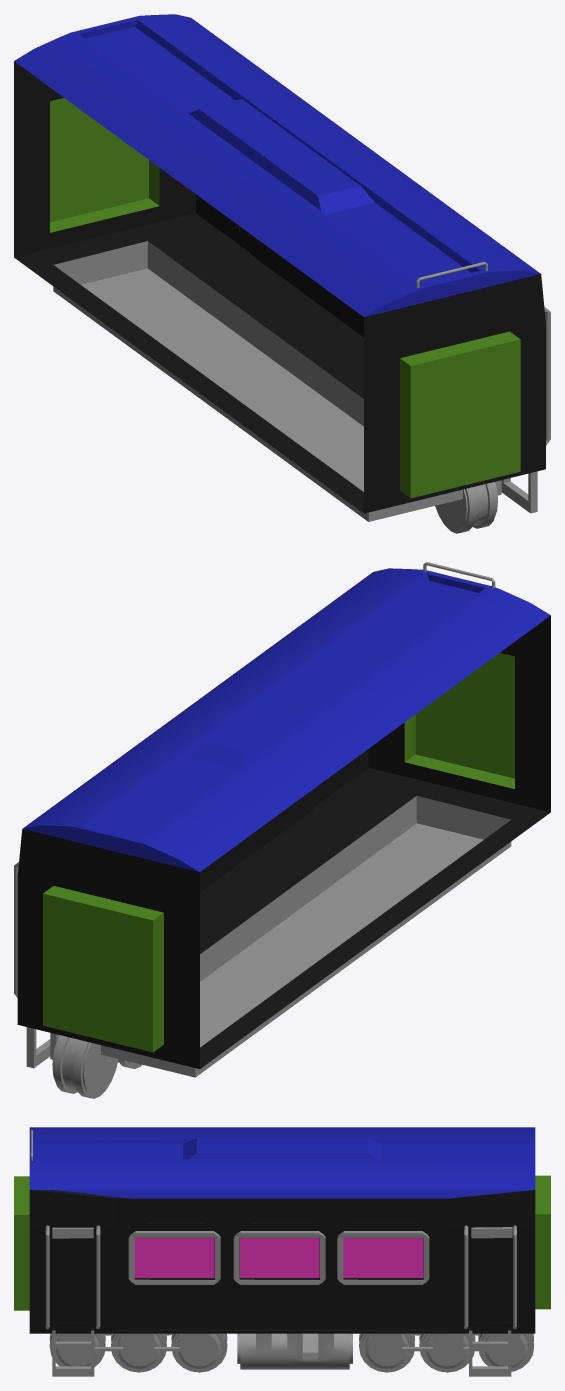
The model's file is Train.FBX.
The picture shows the model from 3 angles, top to bottom: view 1: azimuth 30°, elevation 25°; view 2: azimuth 150°, elevation 25°; view 3: azimuth 270°, elevation 25°; orthographic projection. The views are drawn at different scales.
Visible parts, largest first — view 1: polySurface67; view 2: polySurface67; view 3: polySurface67.
Part boxes in pixels (x1,y1,x2,y2): polySurface67: (14,14,550,533); polySurface67: (14,562,550,1098); polySurface67: (14,1127,550,1376).
Bounding box in the file's own units: 32.86 × 46 × 106.
